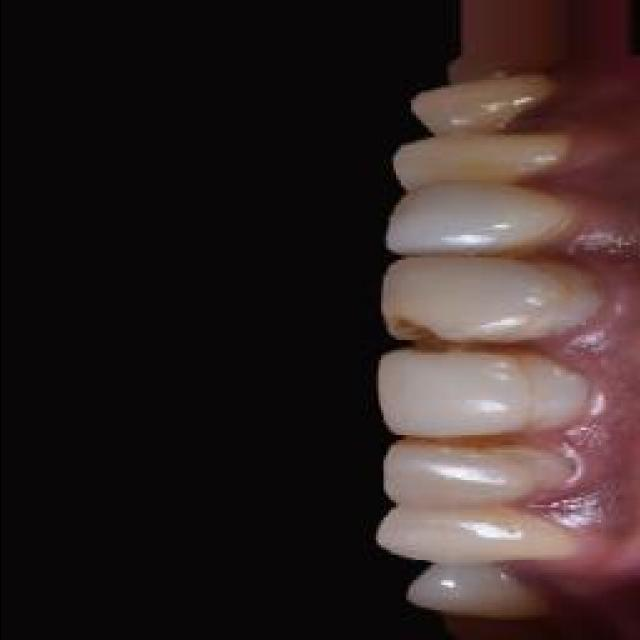caries: (400, 322, 455, 360)
